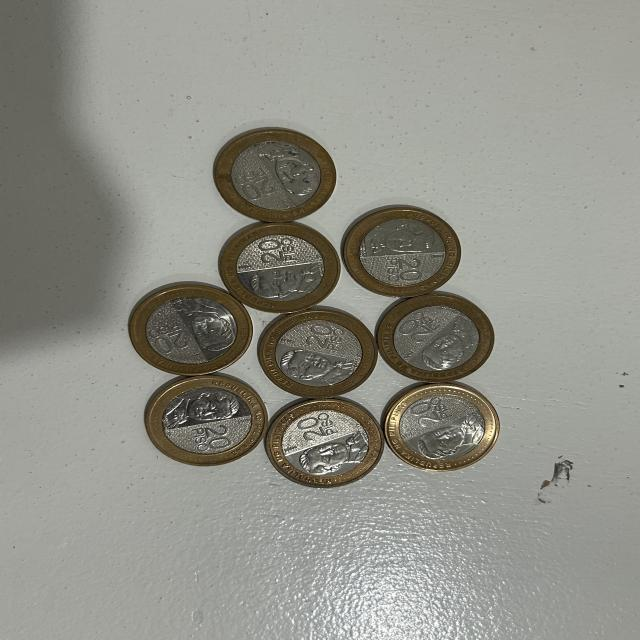20_New_Front: (143, 324, 198, 367), (190, 419, 242, 456), (242, 239, 300, 271), (294, 321, 350, 354), (376, 252, 430, 284), (397, 306, 439, 346), (234, 166, 275, 202), (408, 398, 457, 428), (290, 413, 336, 442)
